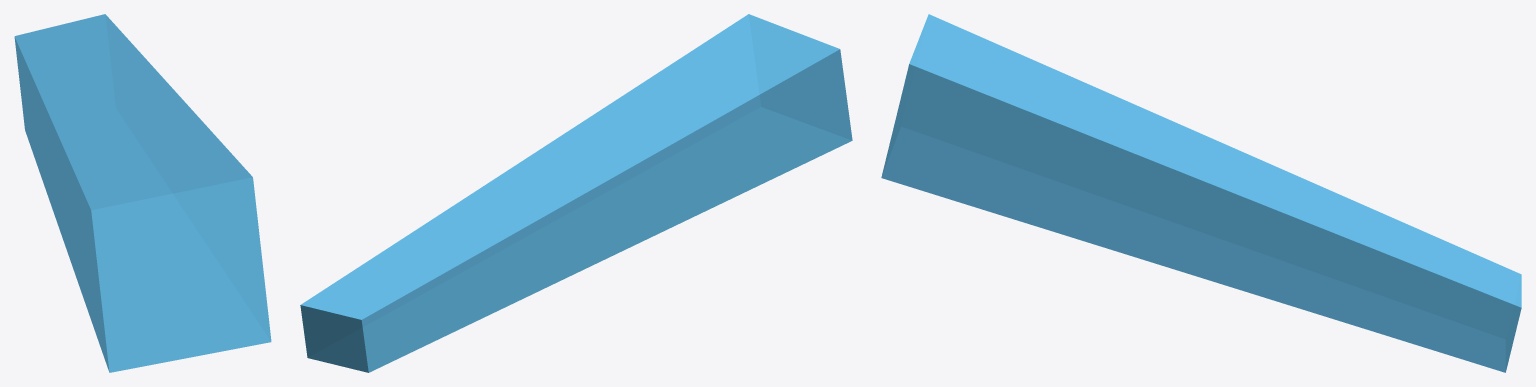
File: Event_421115418_HBrechit_9.fbx
The picture shows the model from 3 angles, left to right: view 1: azimuth 30°, elevation 25°; view 2: azimuth 150°, elevation 25°; view 3: azimuth 270°, elevation 25°; orthographic projection. The views are drawn at different scales.
Visible parts, largest first — view 1: Model; view 2: Model; view 3: Model.
Part boxes in pixels (box(x1,y1,x2,y2)): Model: box(14, 14, 271, 372); Model: box(300, 14, 852, 372); Model: box(881, 14, 1521, 372).
Bounding box in the file's own units: 1.94 × 1.29 × 3.5.
